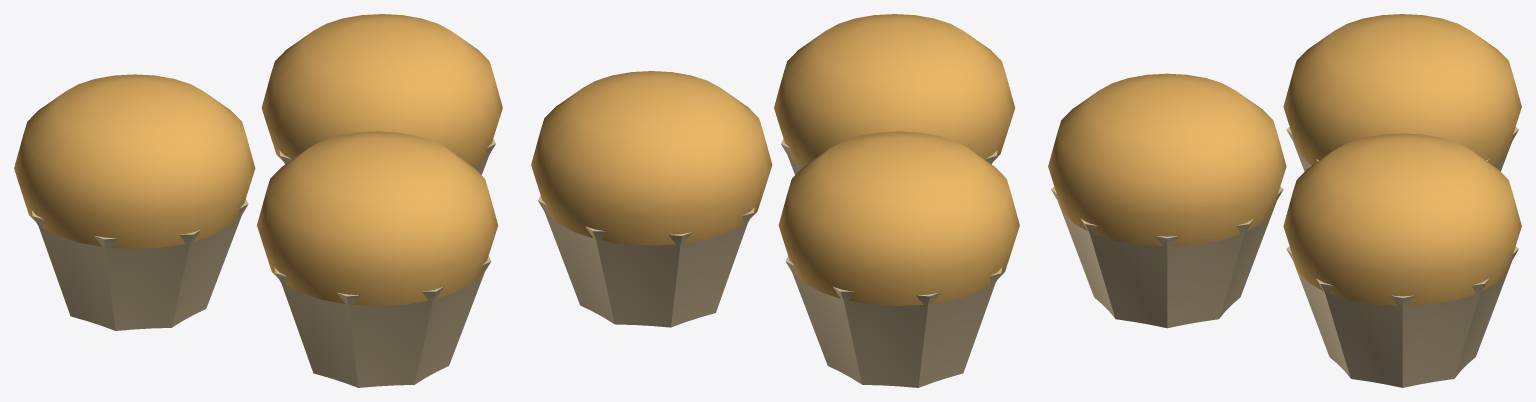
The model's file is Muffins.fbx.
The picture shows the model from 3 angles, left to right: view 1: azimuth 30°, elevation 25°; view 2: azimuth 150°, elevation 25°; view 3: azimuth 270°, elevation 25°; orthographic projection.
Visible parts, largest first — view 1: Muffins; view 2: Muffins; view 3: Muffins.
Part boxes in pixels (x1,y1,x2,y2): Muffins: [14, 14, 502, 387]; Muffins: [531, 14, 1019, 387]; Muffins: [1048, 14, 1521, 387].
Bounding box in the file's own units: 0.166 × 0.072 × 0.151.
